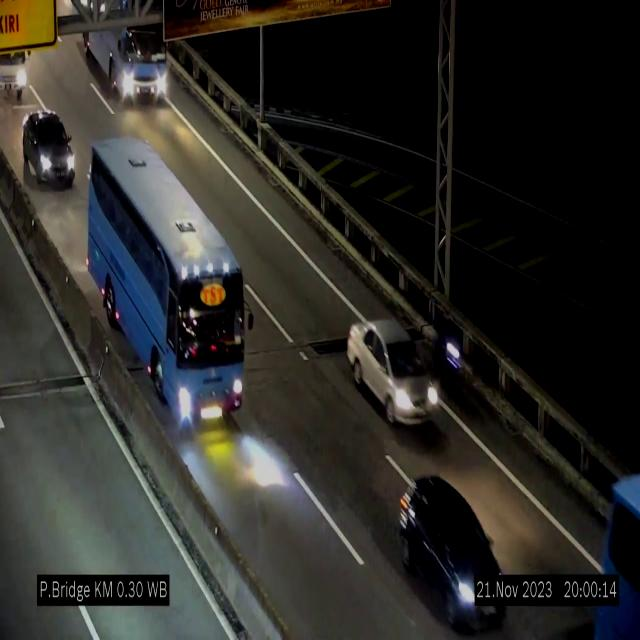Bus: (85, 140, 256, 436), (593, 442, 640, 640), (83, 27, 171, 102)
Car: (397, 468, 506, 631), (346, 320, 440, 425), (22, 111, 74, 186)
Motorcycle: (434, 310, 463, 392)
Truck: (0, 36, 38, 113)
